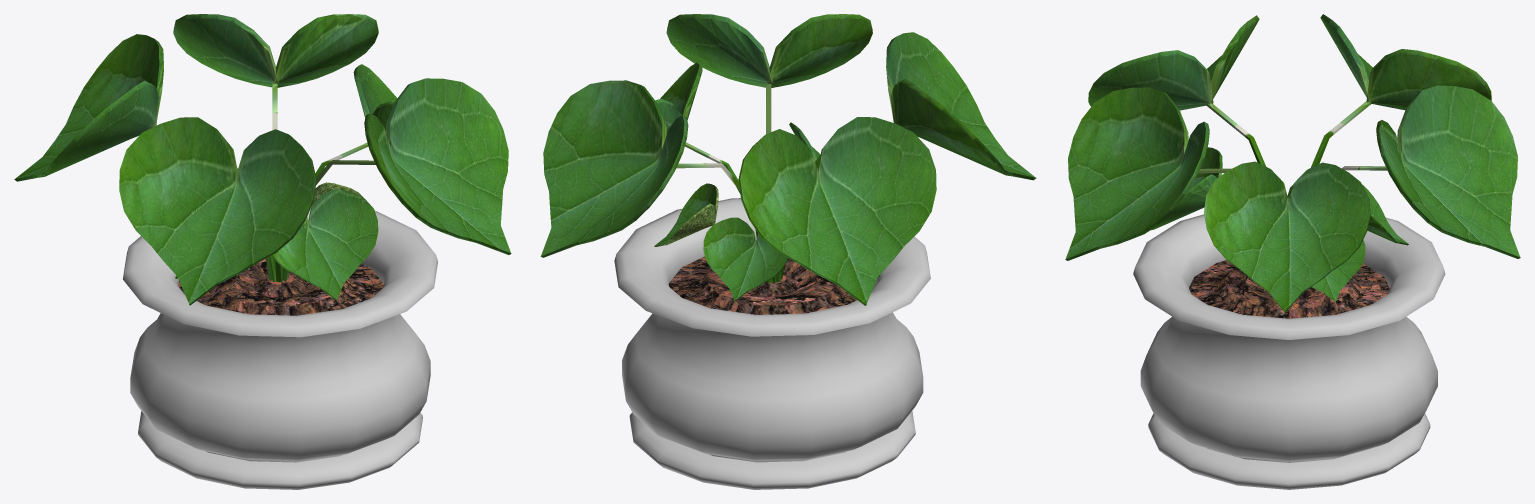
3 views of the same model, side by side, from view 1: azimuth 30°, elevation 25°; view 2: azimuth 150°, elevation 25°; view 3: azimuth 270°, elevation 25° (orthographic). The views are drawn at different scales.
Parts seen in each view (by area): view 1: Mesh10_potplant_dxf1_Model.001; view 2: Mesh10_potplant_dxf1_Model.001; view 3: Mesh10_potplant_dxf1_Model.001.
Boxes of the visible parts, box(x1,y1,x2,y2) form: Mesh10_potplant_dxf1_Model.001: box(14, 14, 511, 489); Mesh10_potplant_dxf1_Model.001: box(540, 14, 1036, 489); Mesh10_potplant_dxf1_Model.001: box(1065, 14, 1520, 489).
Size of the model in its own units: 0.5089 by 0.453 by 0.5296.
